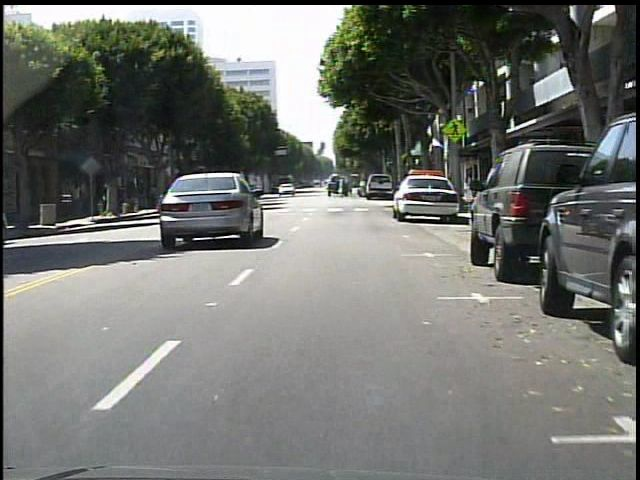person: (74, 181, 85, 215), (114, 187, 125, 217), (110, 185, 119, 214), (341, 176, 342, 198)
